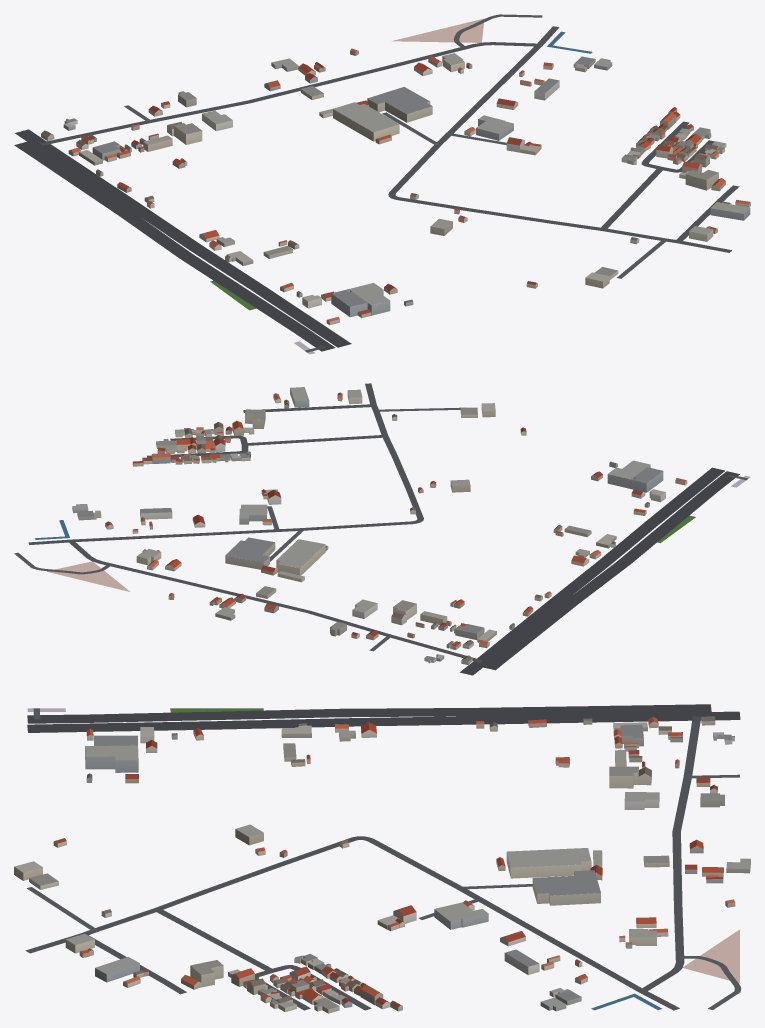
The picture shows the model from 3 angles, top to bottom: view 1: azimuth 30°, elevation 25°; view 2: azimuth 150°, elevation 25°; view 3: azimuth 270°, elevation 25°; orthographic projection. The views are drawn at different scales.
Parts seen in each view (by area): view 1: roads, buildings_roofs, buildings_walls, landuse; view 2: roads, buildings_roofs, buildings_walls, landuse; view 3: roads, buildings_roofs, buildings_walls, landuse.
Boxes of the visible parts, <box> form: roads: <box>14,14,739,352</box>; buildings_roofs: <box>41,48,749,321</box>; buildings_walls: <box>41,50,750,325</box>; landuse: <box>210,18,484,354</box>; roads: <box>14,383,748,675</box>; buildings_roofs: <box>72,387,685,661</box>; buildings_walls: <box>72,388,687,664</box>; landuse: <box>46,475,750,591</box>; roads: <box>25,704,741,1010</box>; buildings_roofs: <box>14,716,750,1009</box>; buildings_walls: <box>14,717,750,1013</box>; landuse: <box>27,708,739,983</box>.
Size of the model in its own units: 514 by 9.72 by 517.
